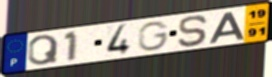1: (62, 30, 80, 63)
4: (104, 22, 133, 57)
A: (208, 10, 247, 44)
G: (137, 20, 171, 53)
Q: (27, 33, 60, 67)
S: (177, 14, 210, 48)
